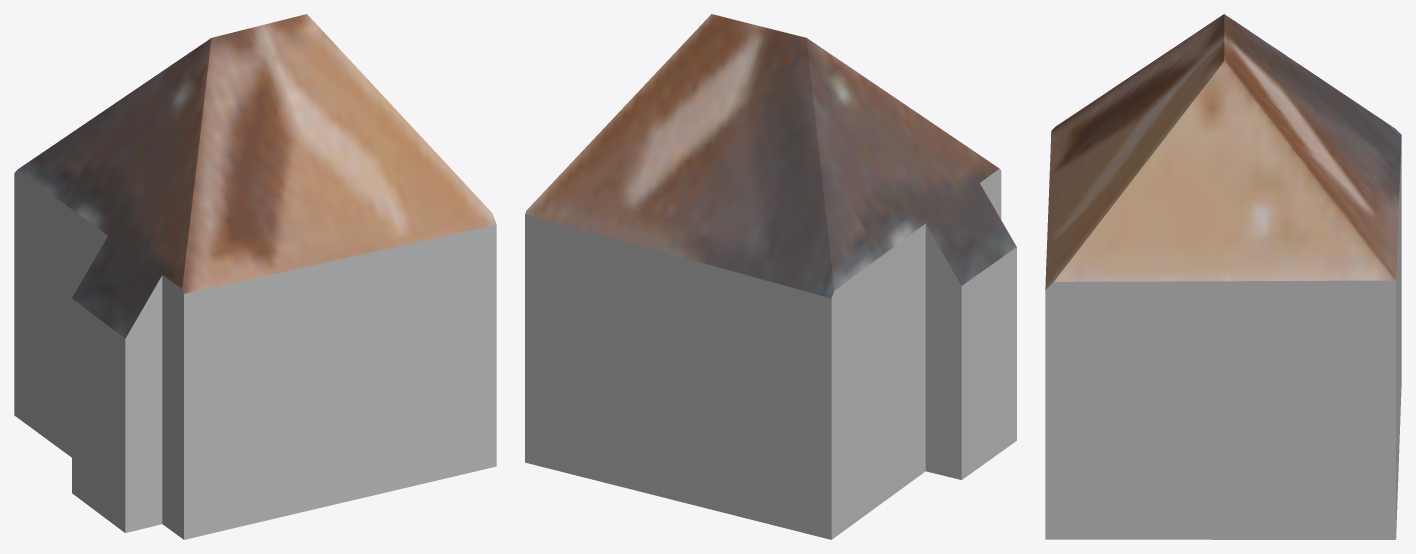
Rendered from DEBW_0010007Txed.gltf.
The picture shows the model from 3 angles, left to right: view 1: azimuth 30°, elevation 25°; view 2: azimuth 150°, elevation 25°; view 3: azimuth 270°, elevation 25°; orthographic projection. The views are drawn at different scales.
Parts seen in each view (by area): view 1: Z_UP; view 2: Z_UP; view 3: Z_UP.
Boxes of the visible parts, x1,y1,x2,y2 form: Z_UP: (14,14,496,539); Z_UP: (525,14,1016,539); Z_UP: (1045,14,1401,539).
Bounding box in the file's own units: 11.23 × 12.79 × 9.68.
2 materials, 1 textured.
